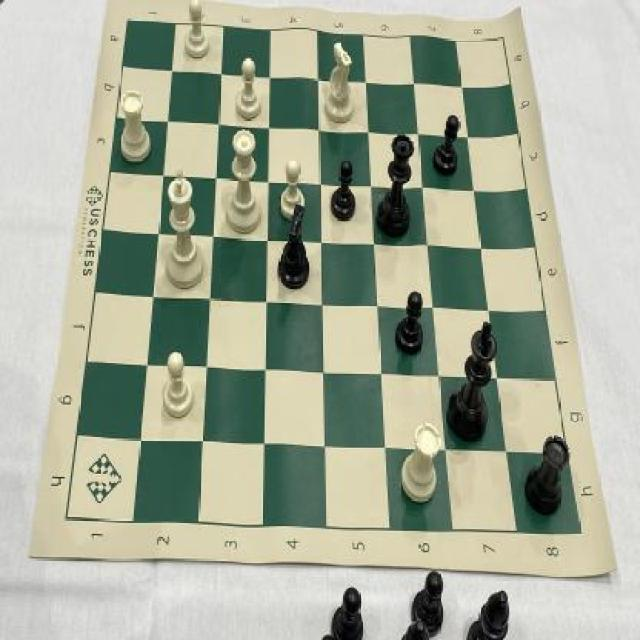black-bishop: (446, 314, 498, 444)
black-king: (274, 203, 316, 296)
black-knight: (392, 288, 428, 360), (326, 155, 359, 224), (432, 112, 463, 181)
black-pawn: (376, 129, 414, 242)
black-queen: (525, 428, 570, 517)
white-bishop: (163, 166, 205, 293)
white-king: (318, 34, 360, 130)
white-knight: (159, 348, 196, 426), (232, 52, 266, 126), (277, 154, 308, 222), (180, 0, 213, 63)
white-pawn: (223, 120, 269, 242)
white-queen: (396, 414, 442, 506), (114, 84, 154, 164)
